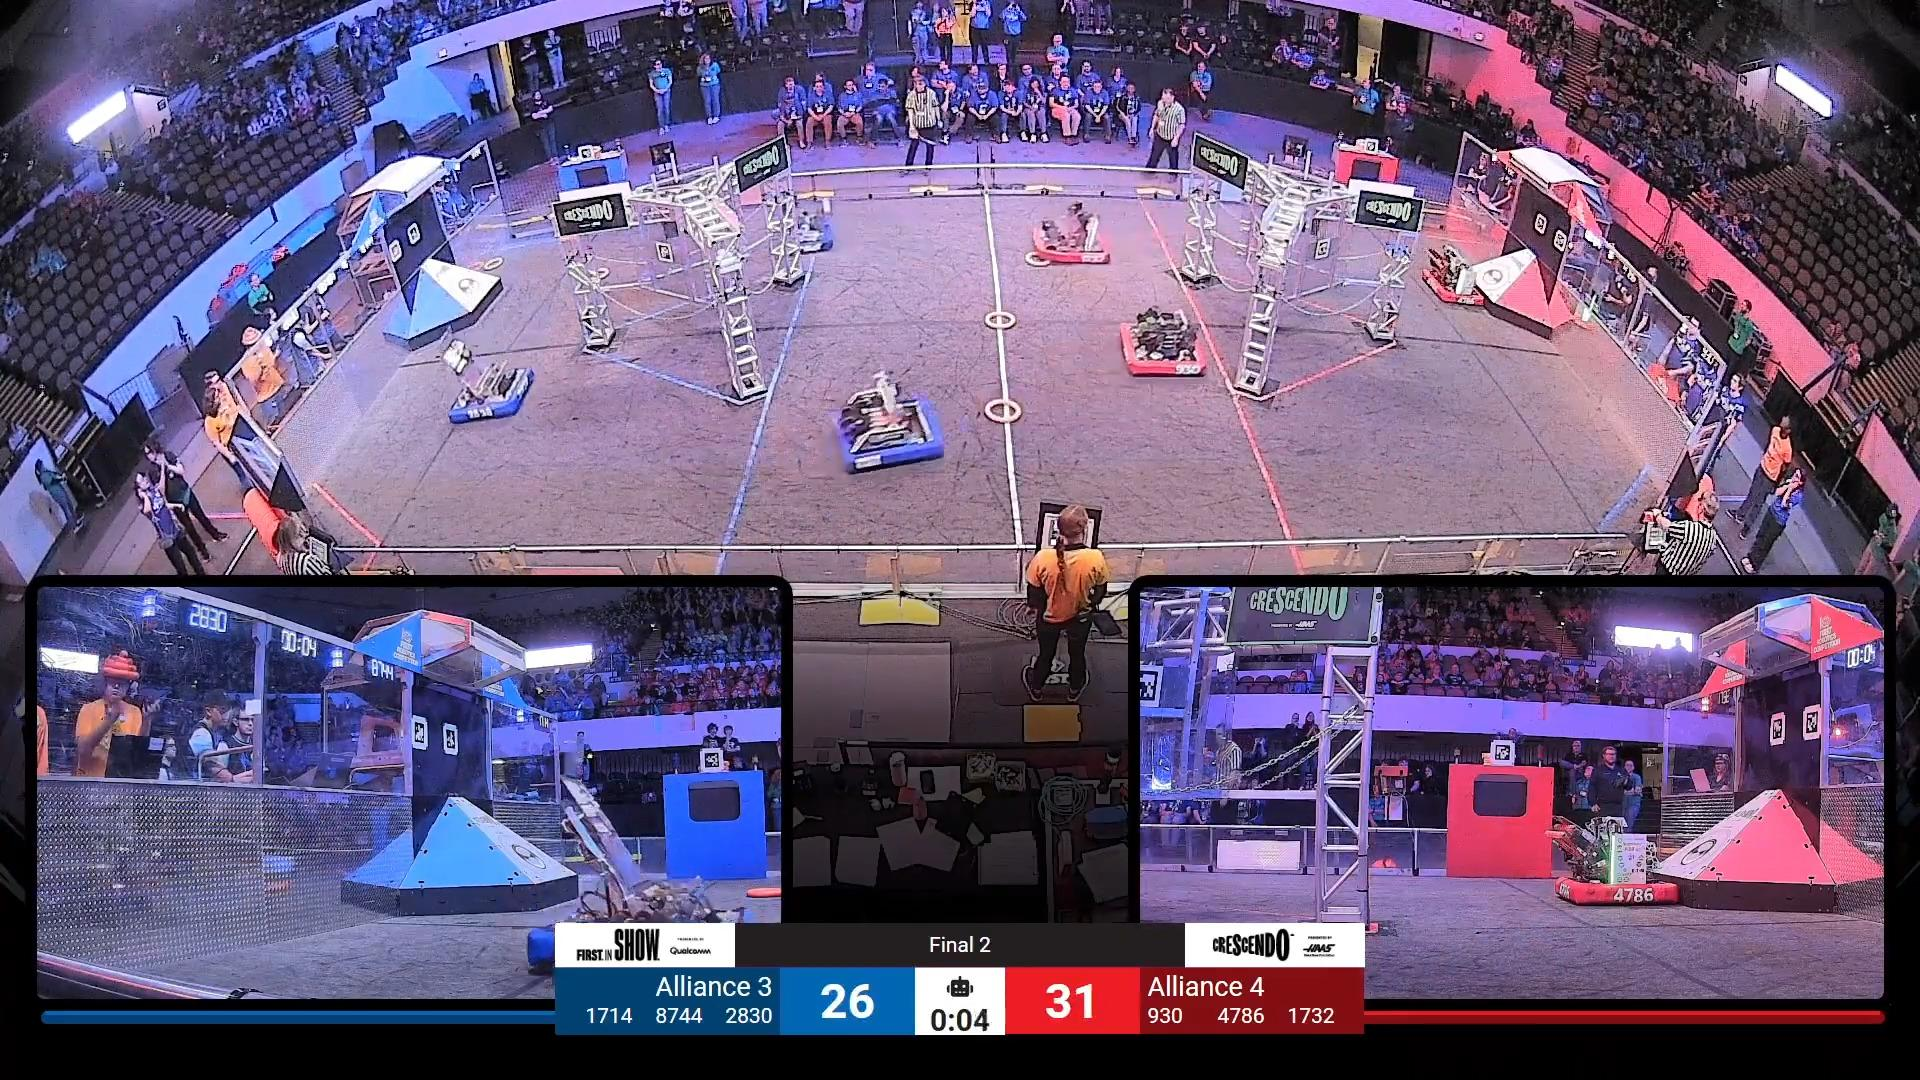robot: (525, 767, 745, 971), (828, 372, 945, 477), (436, 326, 537, 425), (1122, 306, 1212, 378), (1034, 204, 1112, 264), (1424, 243, 1489, 306), (791, 200, 833, 255)
